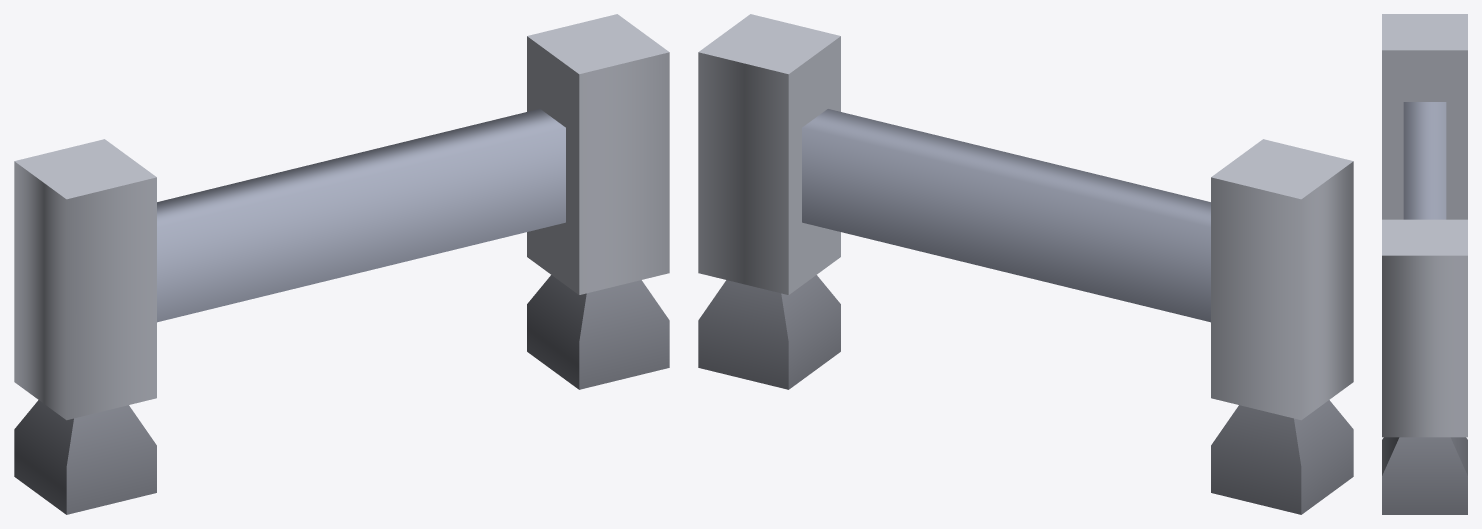
Rendered from structure-short.fbx.
3 renders of one model, left to right at view 1: azimuth 30°, elevation 25°; view 2: azimuth 150°, elevation 25°; view 3: azimuth 270°, elevation 25°, orthographic. The views are drawn at different scales.
Parts seen in each view (by area): view 1: structure-short; view 2: structure-short; view 3: structure-short.
Part boxes in pixels (box(x1,y1,x2,y2)): structure-short: box(14, 14, 669, 514); structure-short: box(698, 14, 1353, 514); structure-short: box(1382, 14, 1467, 514).
Bounding box in the file's own units: 100 × 50 × 15.
